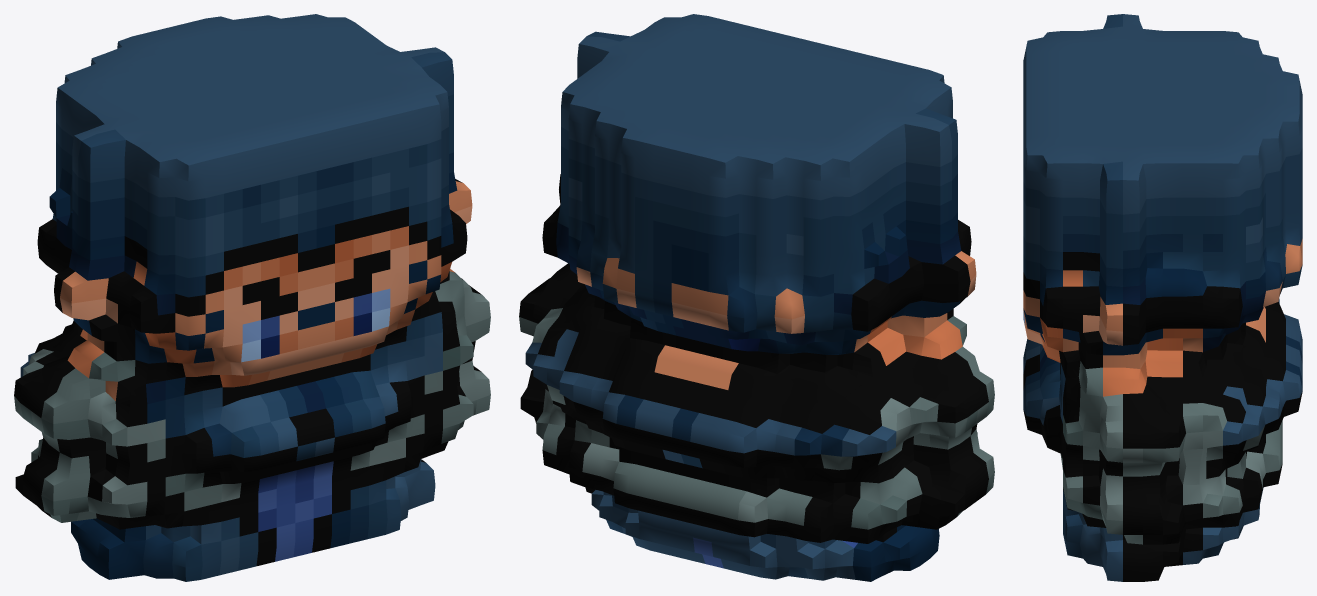
File: Icon_032_02.obj
3 views of the same model, side by side, from view 1: azimuth 30°, elevation 25°; view 2: azimuth 150°, elevation 25°; view 3: azimuth 270°, elevation 25° (orthographic). The views are drawn at different scales.
Size of the model in its own units: 2.4 by 2.3 by 1.4.
1 material, 1 textured.
